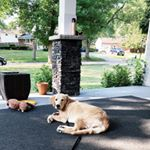puppy: (44, 92, 114, 137)
